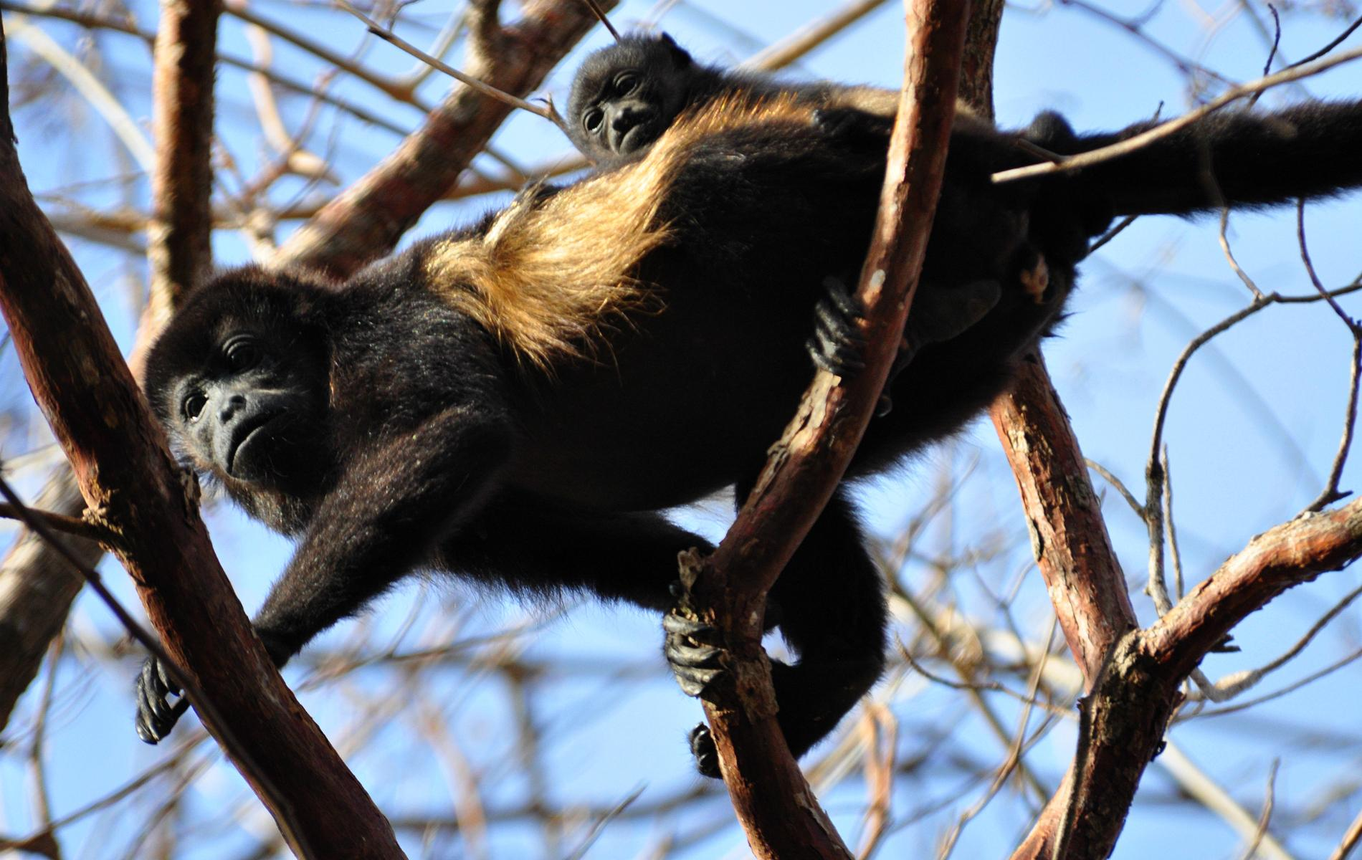monkey: (144, 37, 895, 666)
